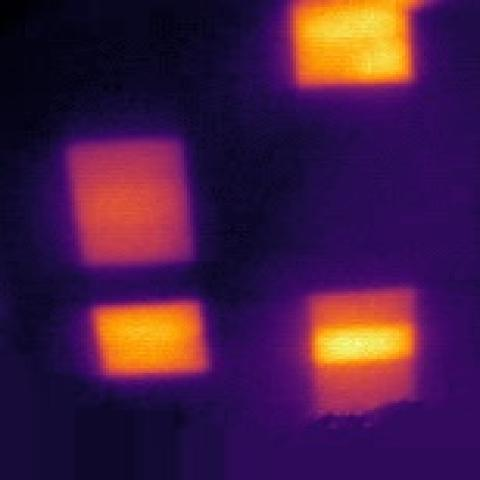fault: (52, 132, 232, 269), (289, 283, 427, 427), (280, 0, 429, 93), (74, 291, 230, 378)
